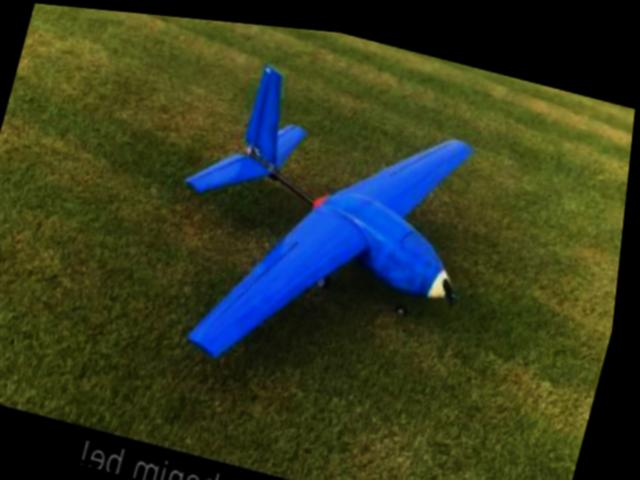uav: (120, 22, 523, 430)
